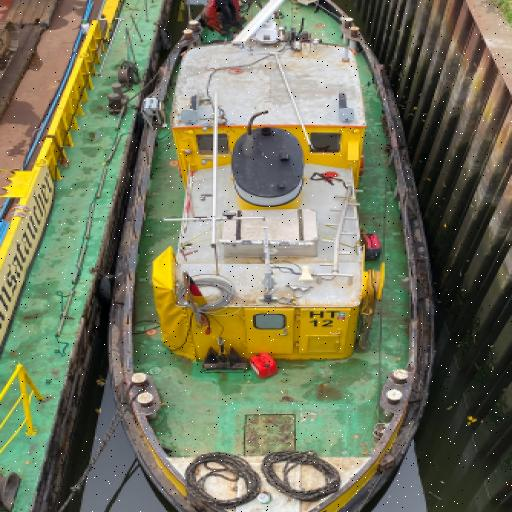tugboat: (99, 1, 441, 512)
